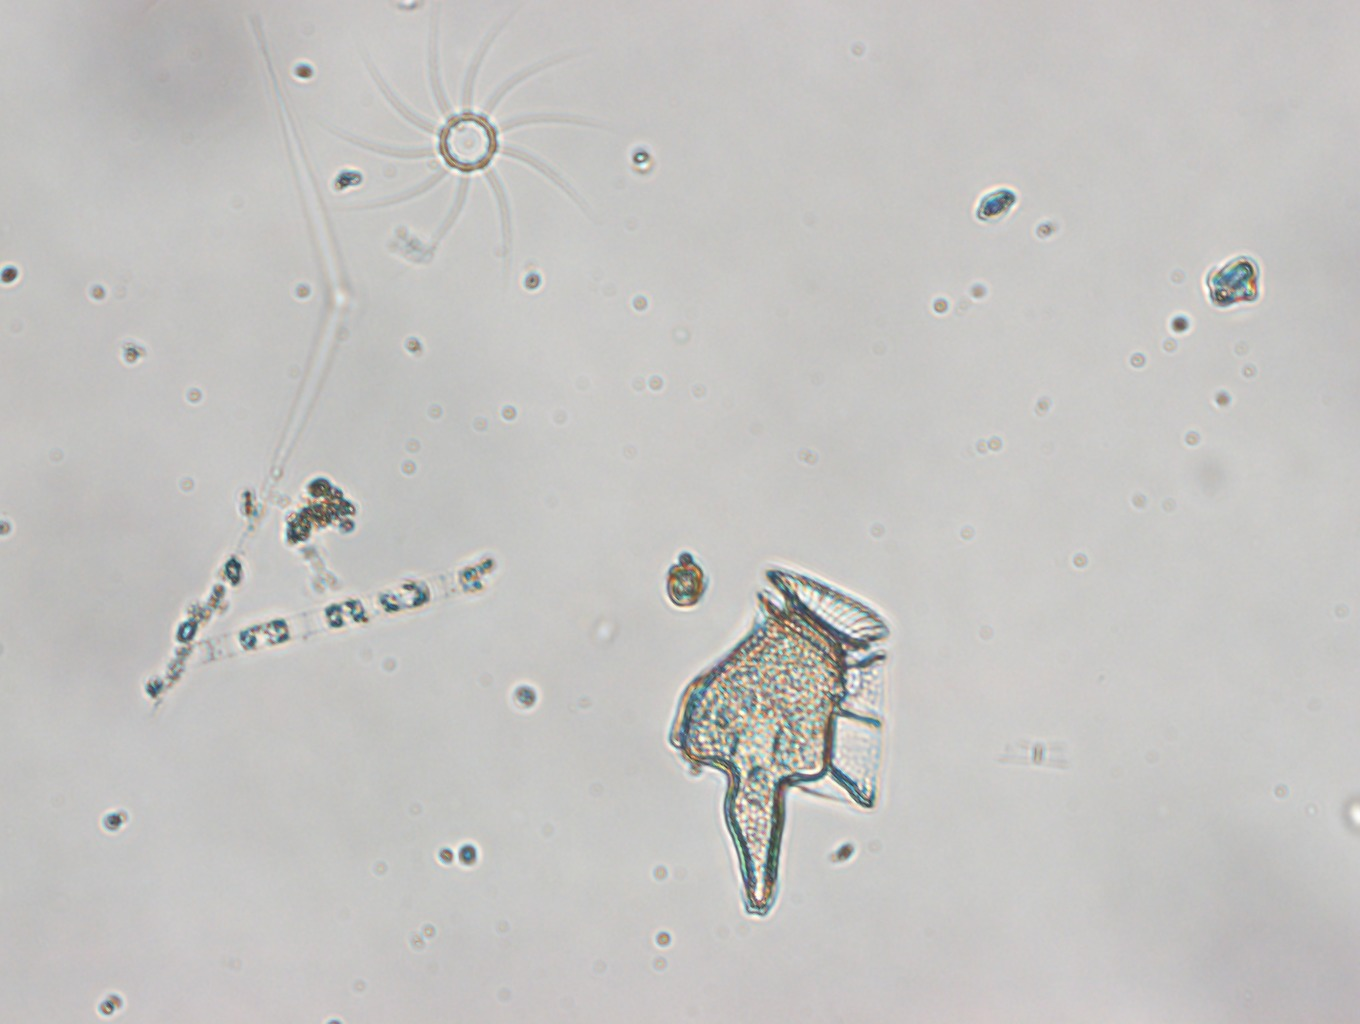bacteriastrum: (320, 1, 613, 281)
dinophysis caudata: (668, 565, 891, 915)
skeletonema: (187, 551, 498, 665)
